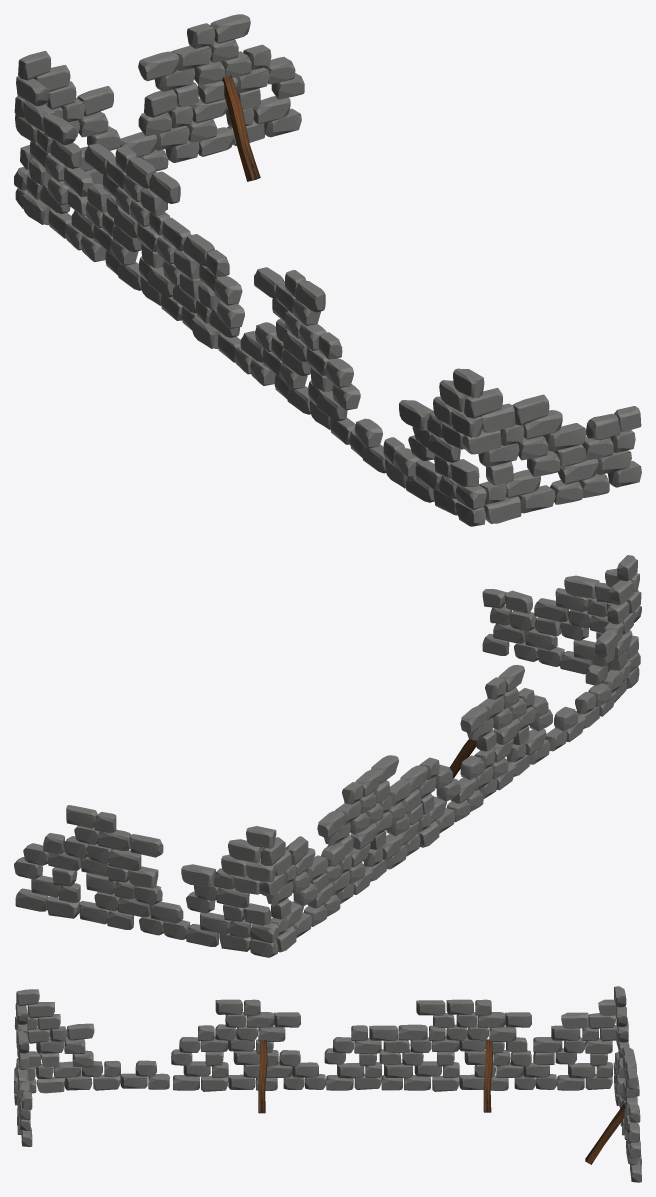
The model's file is BigCampWallR.fbx.
3 renders of one model, top to bottom at view 1: azimuth 30°, elevation 25°; view 2: azimuth 150°, elevation 25°; view 3: azimuth 270°, elevation 25°, orthographic. The views are drawn at different scales.
Parts seen in each view (by area): view 1: BigCampWallR; view 2: BigCampWallR; view 3: BigCampWallR.
Part boxes in pixels (x1,y1,x2,y2): BigCampWallR: [14, 14, 641, 526]; BigCampWallR: [14, 555, 641, 957]; BigCampWallR: [14, 986, 641, 1182].
Size of the model in its own units: 32.99 by 16.55 by 87.77.
Materials: 1 (1 with a texture image).
